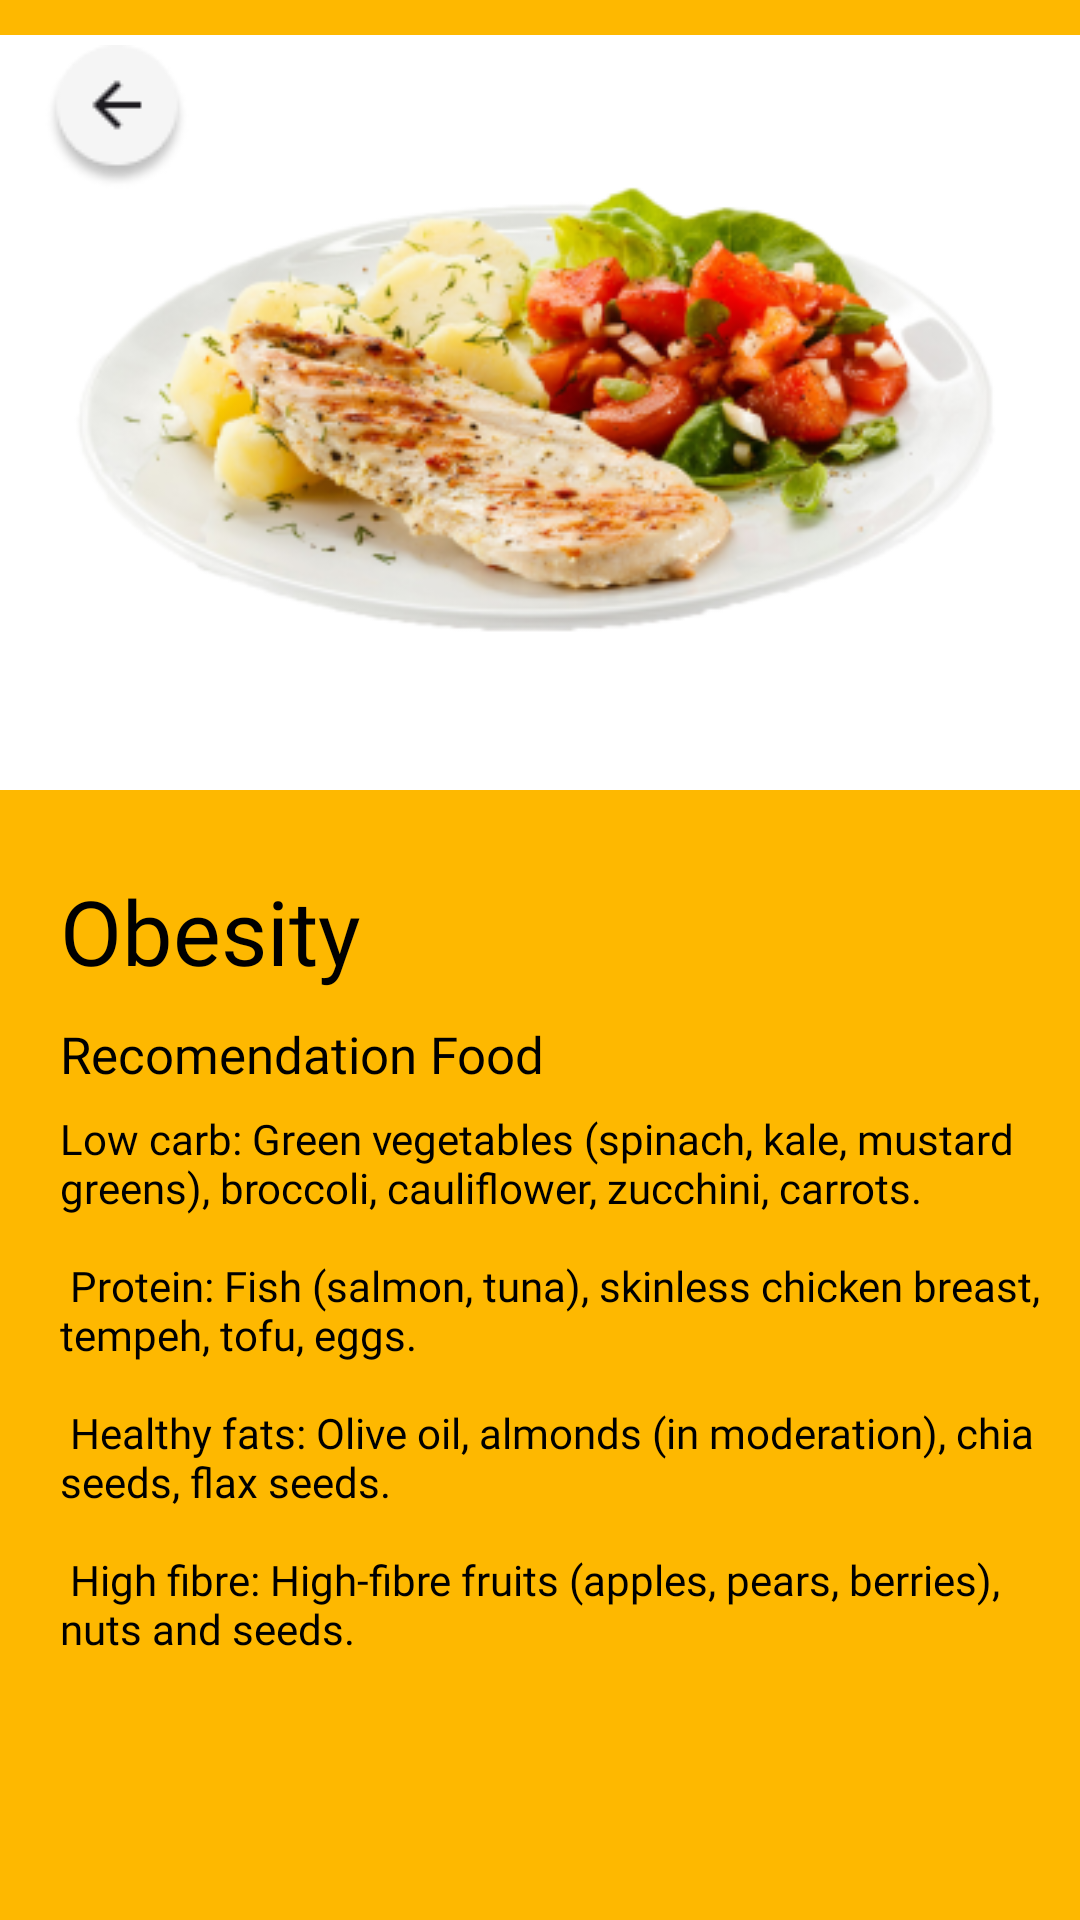

Icons on this 1080*1920 Android screen, each with the point to tap as (x=x, y=y):
back: (x=117, y=114)
